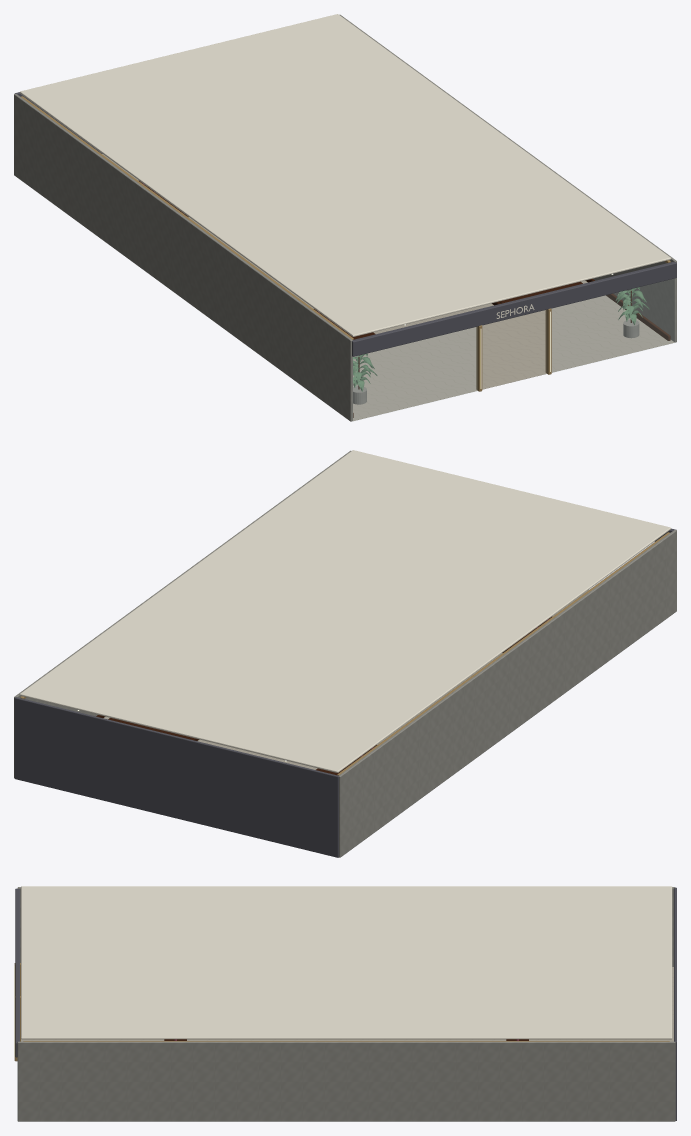
File: sephora.glb
3 views of the same model, one above another, from view 1: azimuth 30°, elevation 25°; view 2: azimuth 150°, elevation 25°; view 3: azimuth 270°, elevation 25° (orthographic). The views are drawn at different scales.
Parts seen in each view (by area): view 1: Batched AUR-L2-SEPHORA::Warm porcelain, Batched AUR-L2-SEPHORA::Travertine, Tenant floor sephora, Batched AUR-L2-SEPHORA::Tenant glass, Batched AUR-L2-SEPHORA::Tenant sephora, Batched AUR-L2-SEPHORA::Bronze, Batched AUR-L2-SEPHORA::Foliage, Batched AUR-L2-SEPHORA::Walnut; view 2: Batched AUR-L2-SEPHORA::Warm porcelain, Batched AUR-L2-SEPHORA::Travertine, Batched AUR-L2-SEPHORA::Tenant sephora, Batched AUR-L2-SEPHORA::Bronze, Tenant floor sephora; view 3: Batched AUR-L2-SEPHORA::Warm porcelain, Batched AUR-L2-SEPHORA::Travertine, Batched AUR-L2-SEPHORA::Tenant sephora, Tenant floor sephora, Batched AUR-L2-SEPHORA::Bronze.
Part boxes in pixels (x1,y1,x2,y2): Batched AUR-L2-SEPHORA::Warm porcelain: (19, 14, 671, 336); Batched AUR-L2-SEPHORA::Travertine: (14, 14, 676, 421); Tenant floor sephora: (102, 154, 675, 421); Batched AUR-L2-SEPHORA::Tenant glass: (352, 279, 675, 421); Batched AUR-L2-SEPHORA::Tenant sephora: (14, 92, 676, 356); Batched AUR-L2-SEPHORA::Bronze: (21, 96, 670, 391); Batched AUR-L2-SEPHORA::Foliage: (353, 287, 649, 391); Batched AUR-L2-SEPHORA::Walnut: (138, 180, 670, 417); Batched AUR-L2-SEPHORA::Warm porcelain: (19, 450, 671, 772); Batched AUR-L2-SEPHORA::Travertine: (14, 450, 676, 857); Batched AUR-L2-SEPHORA::Tenant sephora: (14, 528, 676, 857); Batched AUR-L2-SEPHORA::Bronze: (20, 532, 669, 775); Tenant floor sephora: (103, 589, 589, 769); Batched AUR-L2-SEPHORA::Warm porcelain: (21, 886, 672, 1039); Batched AUR-L2-SEPHORA::Travertine: (17, 887, 675, 1121); Batched AUR-L2-SEPHORA::Tenant sephora: (15, 887, 676, 1120); Tenant floor sephora: (21, 967, 673, 1041); Batched AUR-L2-SEPHORA::Bronze: (14, 963, 669, 1061).
Bounding box in the file's own units: 20.16 × 4.97 × 36.29.
11 materials, 3 textured.
